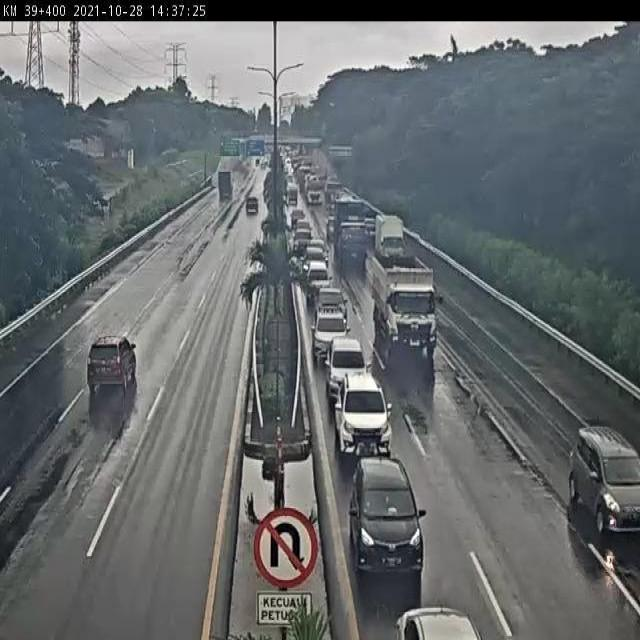big truck: (369, 247, 445, 356)
car: (345, 457, 424, 576), (568, 418, 640, 534), (335, 376, 392, 461), (397, 604, 482, 640), (87, 334, 134, 389), (326, 339, 365, 400), (313, 308, 353, 359), (316, 284, 348, 323)
